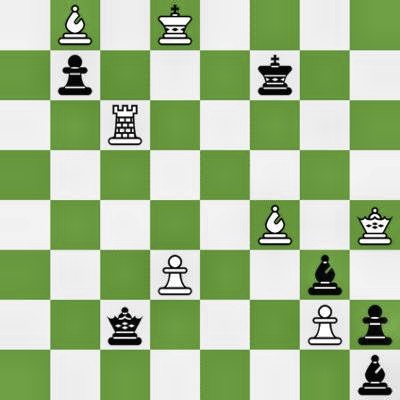black-bishop: (300, 250, 350, 300), (350, 350, 400, 400)
black-king: (250, 50, 300, 100)
black-pawn: (50, 50, 100, 100), (350, 300, 400, 350)
black-queen: (100, 300, 150, 350)
white-bishop: (50, 0, 100, 50), (250, 200, 300, 250)
white-king: (150, 0, 200, 50)
white-pawn: (150, 250, 200, 300), (300, 300, 350, 350)
white-queen: (350, 200, 400, 250)
white-rook: (100, 100, 150, 150)
